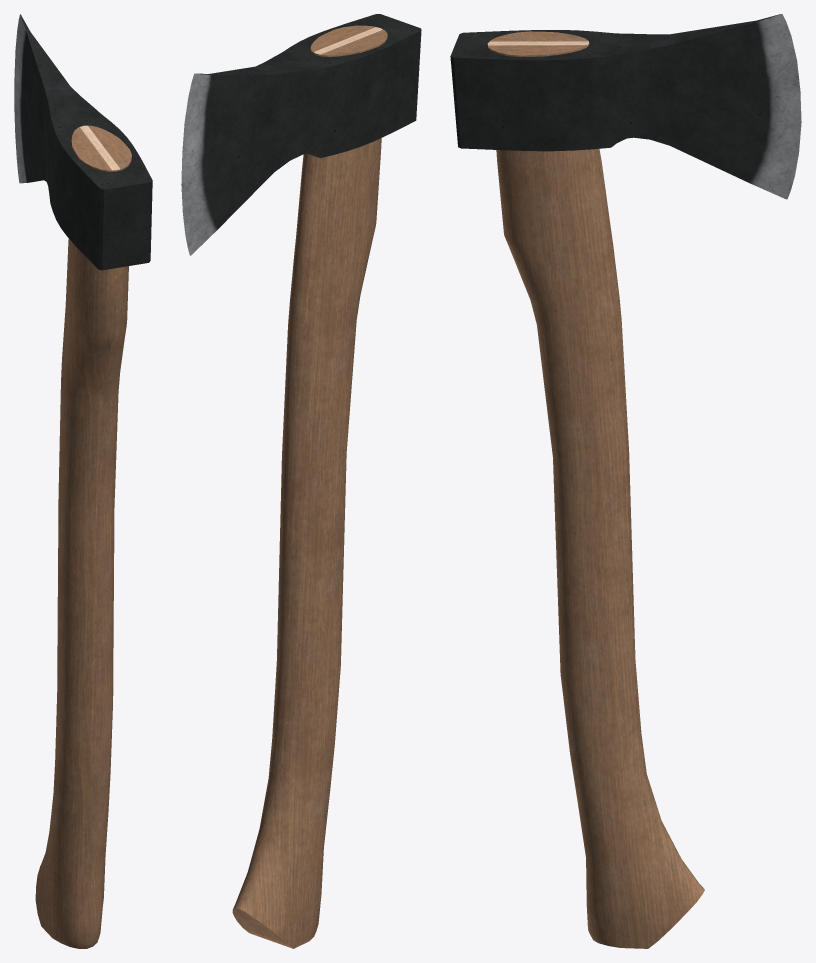
The model's file is weapon_axe.glb.
3 renders of one model, left to right at view 1: azimuth 30°, elevation 25°; view 2: azimuth 150°, elevation 25°; view 3: azimuth 270°, elevation 25°, orthographic. The views are drawn at different scales.
Parts seen in each view (by area): view 1: Axe; view 2: Axe; view 3: Axe.
Boxes of the visible parts, x1,y1,x2,y2 form: Axe: [14, 14, 152, 948]; Axe: [181, 14, 421, 948]; Axe: [450, 14, 801, 948].
Bounding box in the file's own units: 0.0674 × 0.7068 × 0.2407.
1 material, 1 textured.
